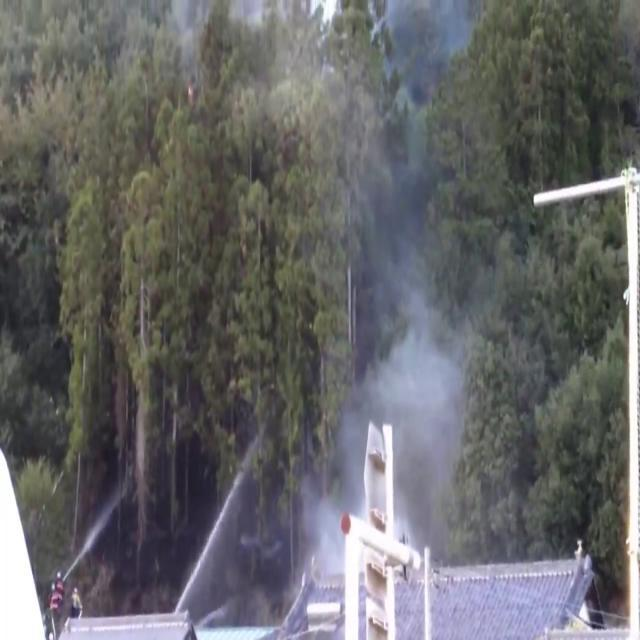Smoke: (341, 122, 489, 530)
